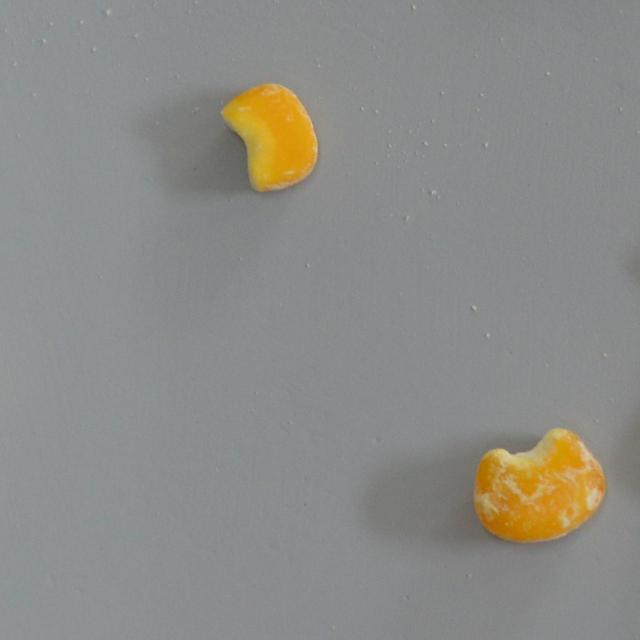pelicula: (469, 420, 612, 547), (216, 81, 320, 196)
